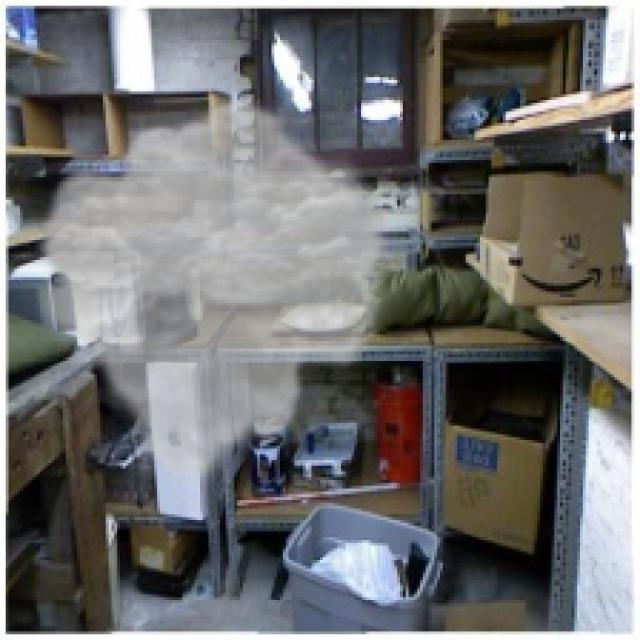Smoke: (29, 94, 398, 489)
